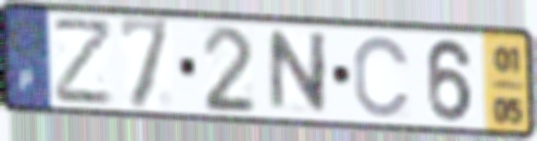2: (200, 22, 259, 114)
6: (425, 37, 475, 125)
7: (117, 14, 174, 114)
C: (351, 33, 413, 121)
N: (267, 29, 331, 116)
Z: (50, 17, 115, 108)
